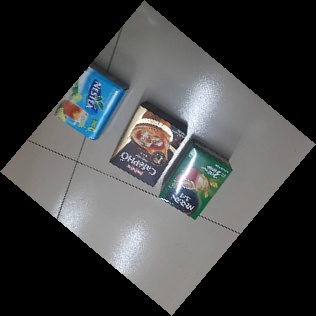CF pho: (108, 102, 188, 187)
Nes Rang: (158, 140, 234, 221)
Nestea: (50, 59, 129, 142)
